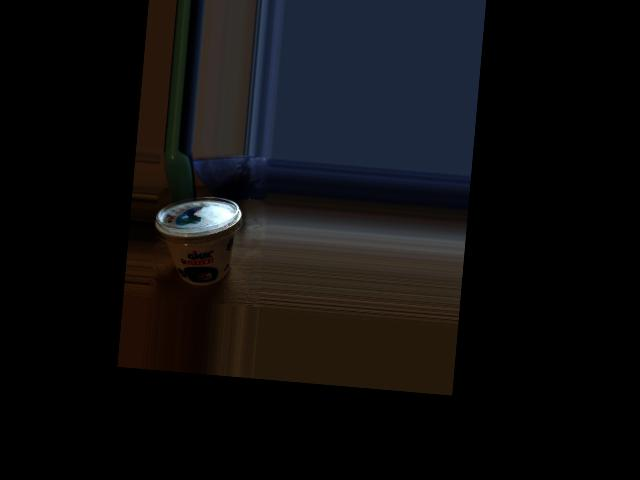cotage: (160, 192, 238, 282)
